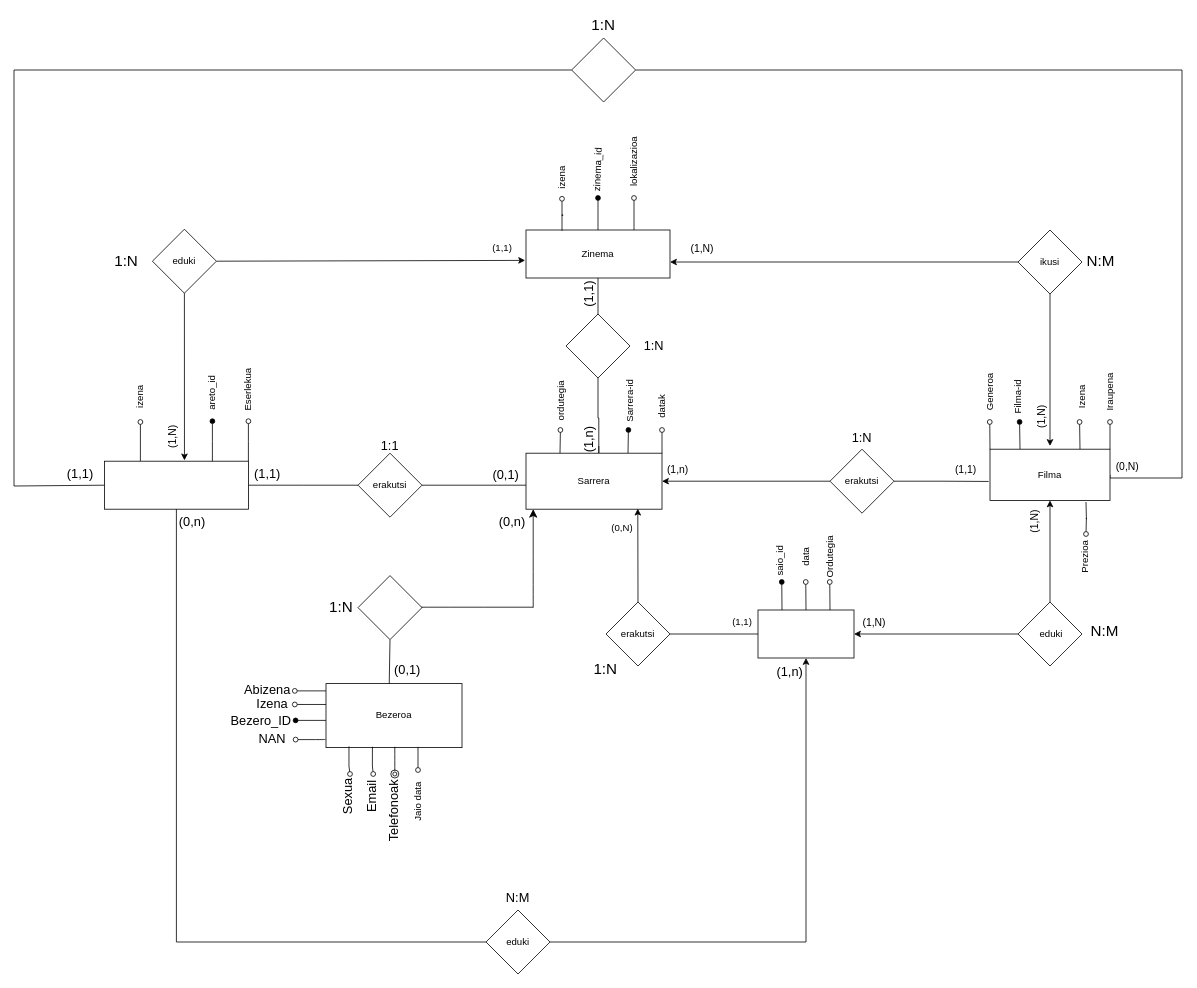
Some shapes in this 1197 by 988 pixel diagram are drawn without their labels. Here are the shapes that lost their labels. From the top down, the centre of each, then its label:
At pixel 603 69: "proiektatu".
At pixel 597 345: "Saldu".
At pixel 176 484: "Aretoa".
At pixel 389 607: "erosi".
At pixel 805 633: "Saioa".
